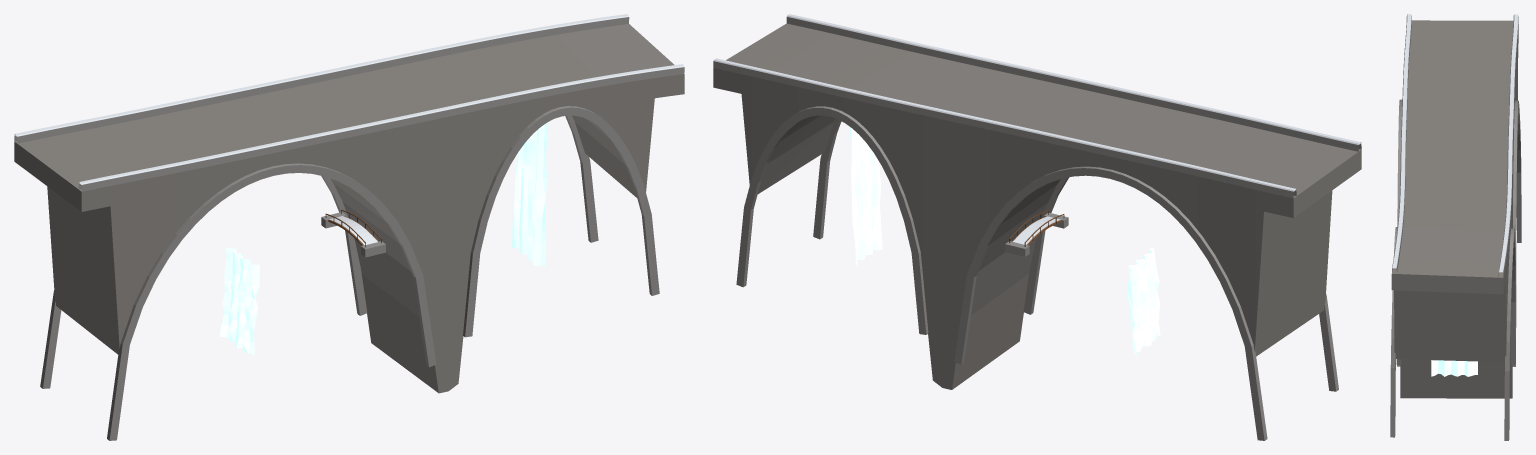
The model's file is SV_Bridges.fbx.
3 views of the same model, side by side, from view 1: azimuth 30°, elevation 25°; view 2: azimuth 150°, elevation 25°; view 3: azimuth 270°, elevation 25° (orthographic). The views are drawn at different scales.
Parts seen in each view (by area): view 1: SV_UNQ_StoneBridge_StoneBlock, SV_UNQ_StoneBridge_Stone, SV_UNQ_StoneBridge_IceGlow, SV_UNQ_StoneBridge_Snow; view 2: SV_UNQ_StoneBridge_StoneBlock, SV_UNQ_StoneBridge_Stone, SV_UNQ_StoneBridge_IceGlow, SV_UNQ_StoneBridge_Snow; view 3: SV_UNQ_StoneBridge_StoneBlock, SV_UNQ_StoneBridge_Stone, SV_UNQ_StoneBridge_Snow, SV_UNQ_StoneBridge_IceGlow.
Part boxes in pixels (<box>): SV_UNQ_StoneBridge_StoneBlock: <box>14,24,684,393</box>; SV_UNQ_StoneBridge_Stone: <box>14,17,684,440</box>; SV_UNQ_StoneBridge_IceGlow: <box>219,122,547,355</box>; SV_UNQ_StoneBridge_Snow: <box>14,14,684,184</box>; SV_UNQ_StoneBridge_StoneBlock: <box>713,23,1361,389</box>; SV_UNQ_StoneBridge_Stone: <box>713,17,1361,440</box>; SV_UNQ_StoneBridge_IceGlow: <box>849,127,1160,356</box>; SV_UNQ_StoneBridge_Snow: <box>713,14,1361,191</box>; SV_UNQ_StoneBridge_StoneBlock: <box>1391,20,1518,398</box>; SV_UNQ_StoneBridge_Stone: <box>1390,16,1521,440</box>; SV_UNQ_StoneBridge_Snow: <box>1392,14,1518,272</box>; SV_UNQ_StoneBridge_IceGlow: <box>1431,360,1477,376</box>.
Size of the model in its own units: 440 by 204 by 101.
